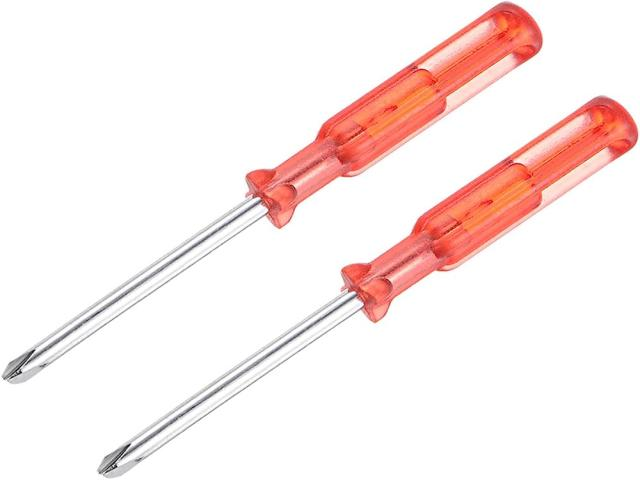Screwdriver: (2, 2, 542, 383), (99, 97, 638, 477)
